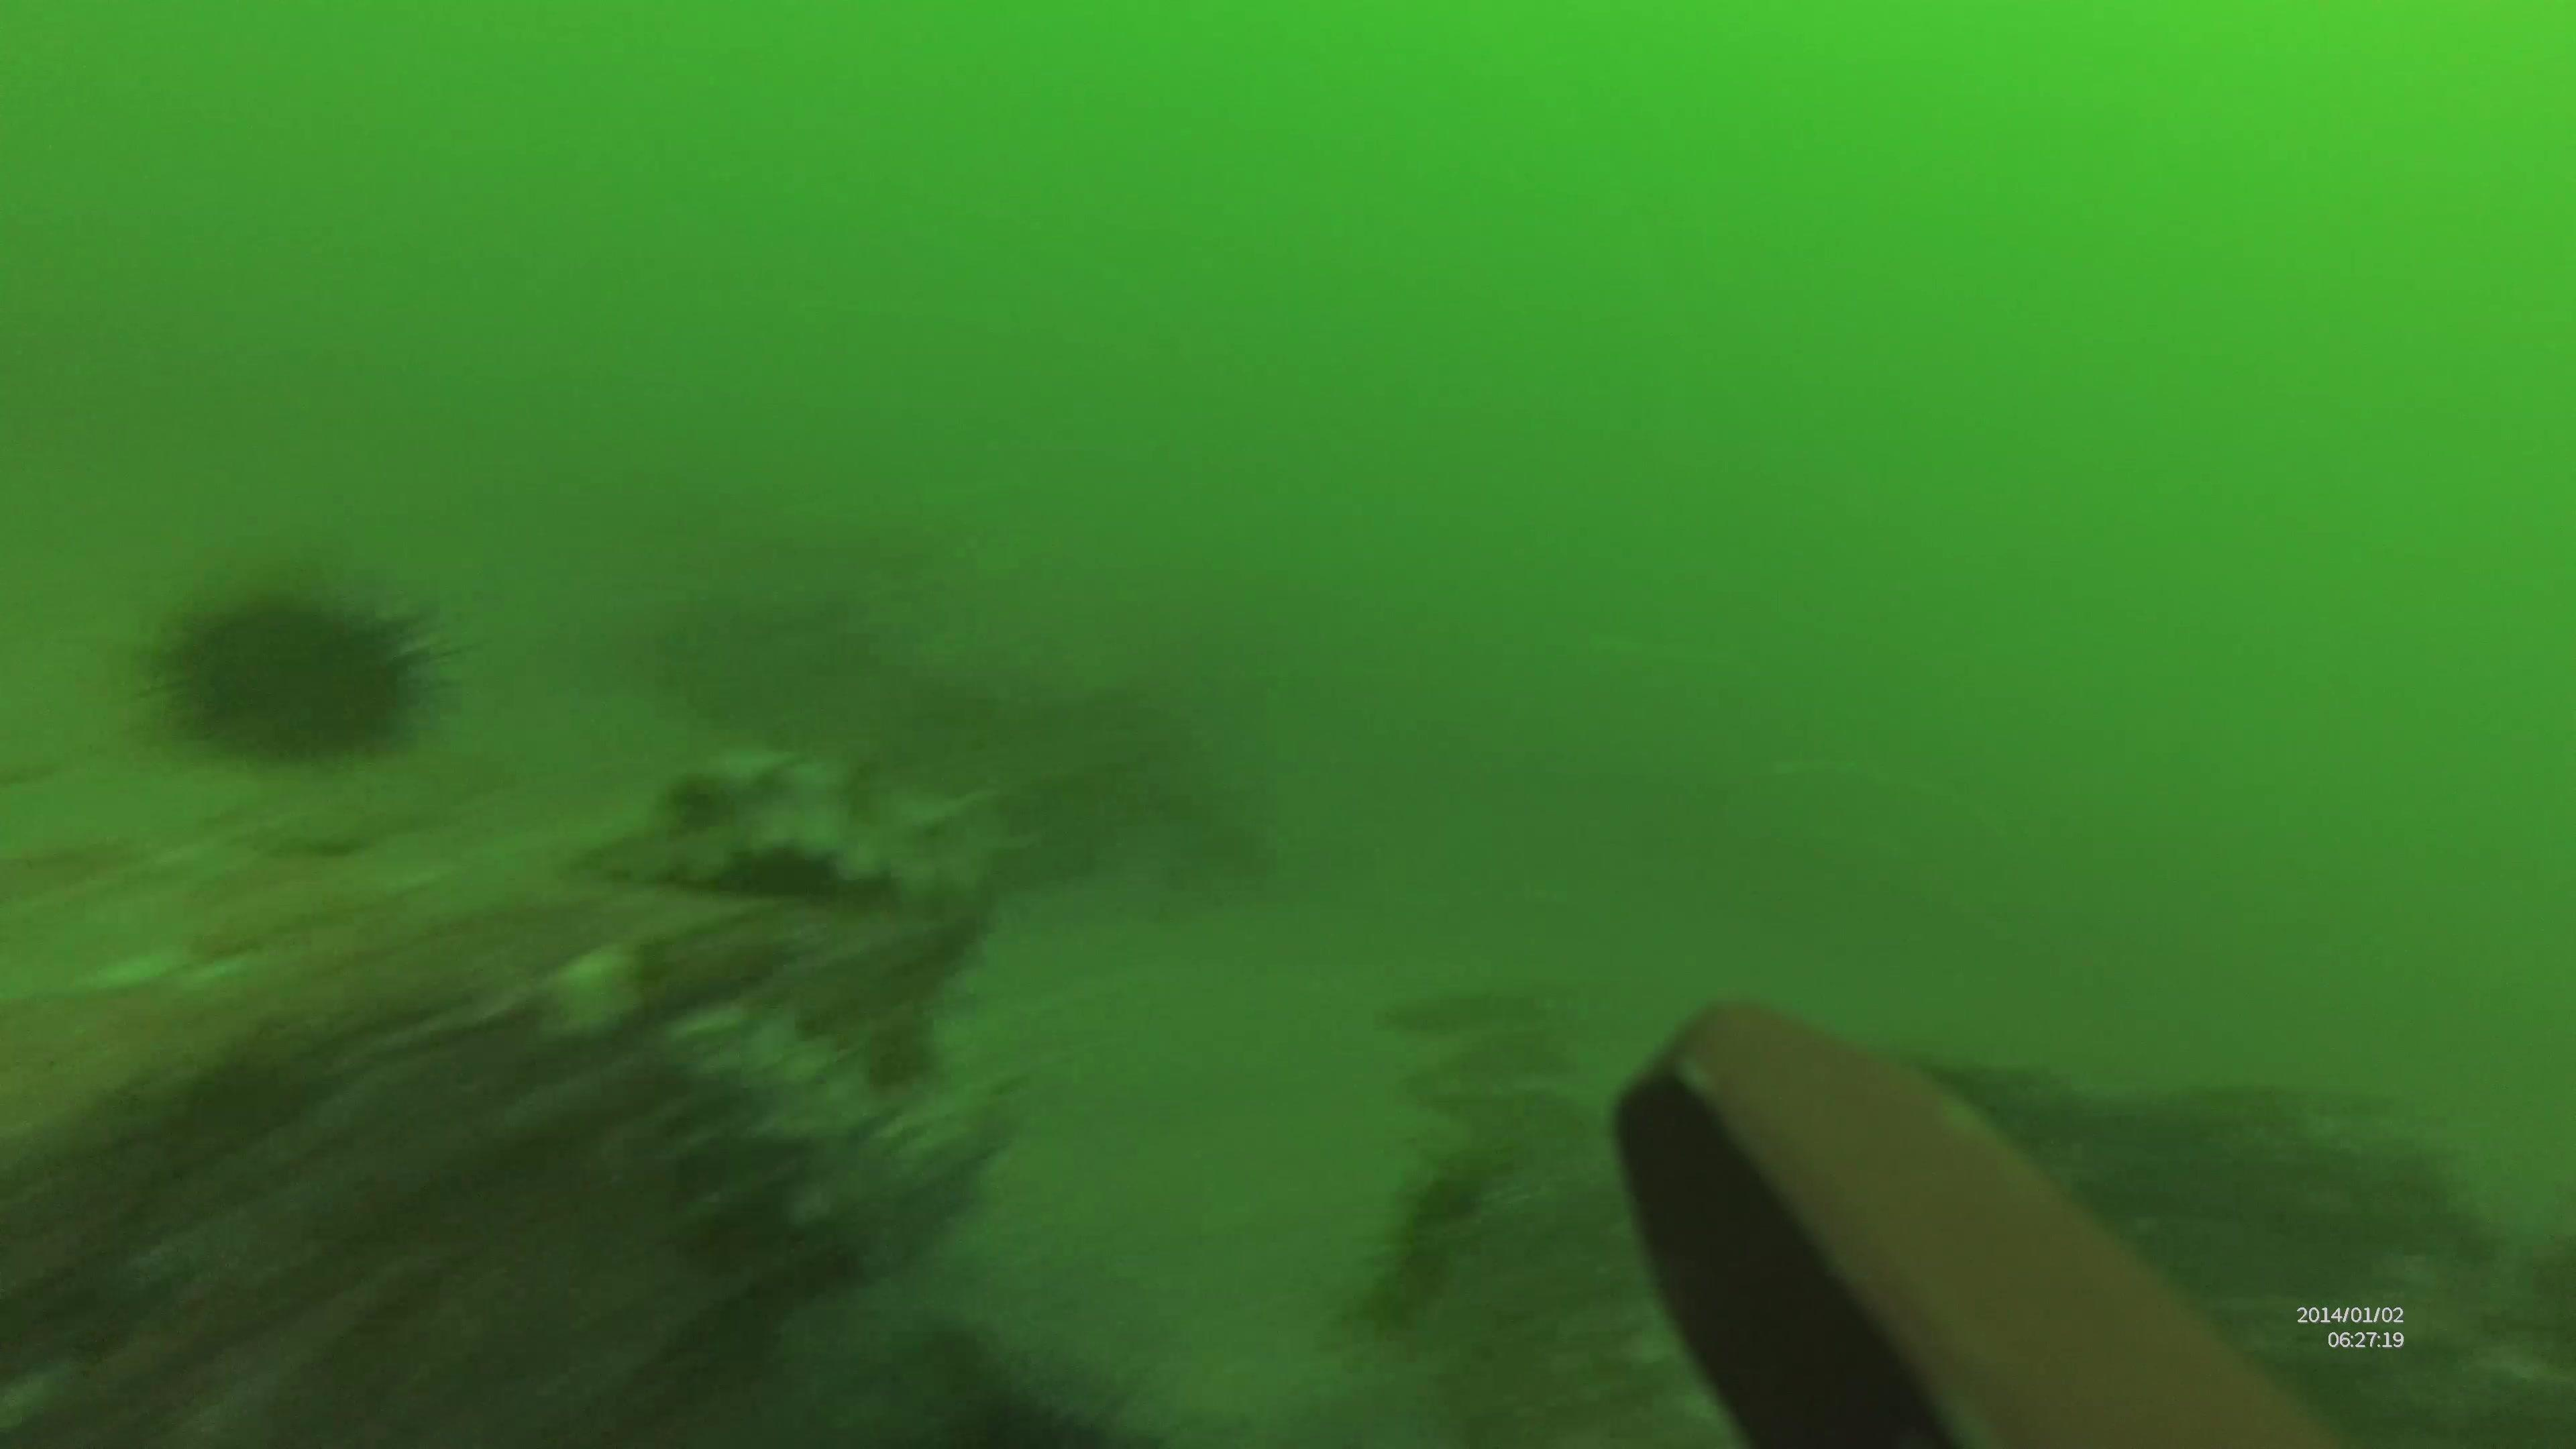echinus: (120, 580, 469, 761)
holothurian: (651, 1003, 934, 1290), (621, 740, 1021, 913)
